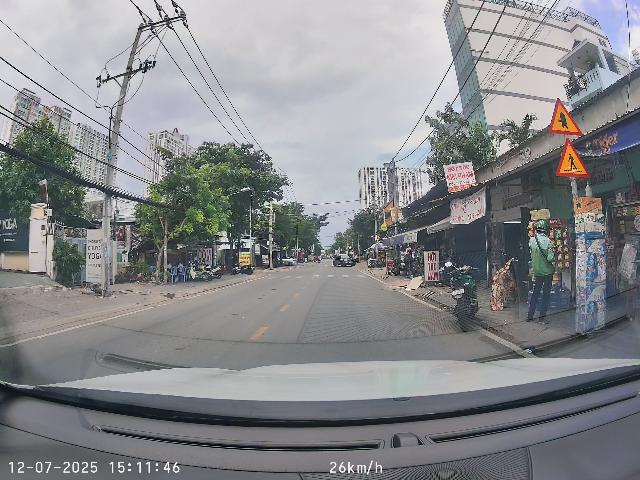207-giao-nhau-voi-duong-khong-uu-tien: (549, 98, 583, 136)
224-duong-nguoi-di-bo-cat-ngang: (556, 137, 590, 178)
